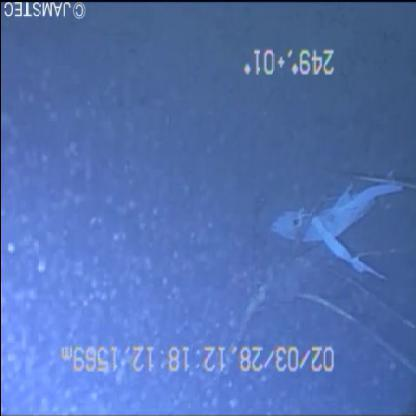Rác: (265, 158, 407, 298)
